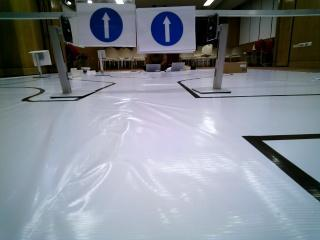straight: (73, 5, 138, 48), (139, 6, 194, 52)
